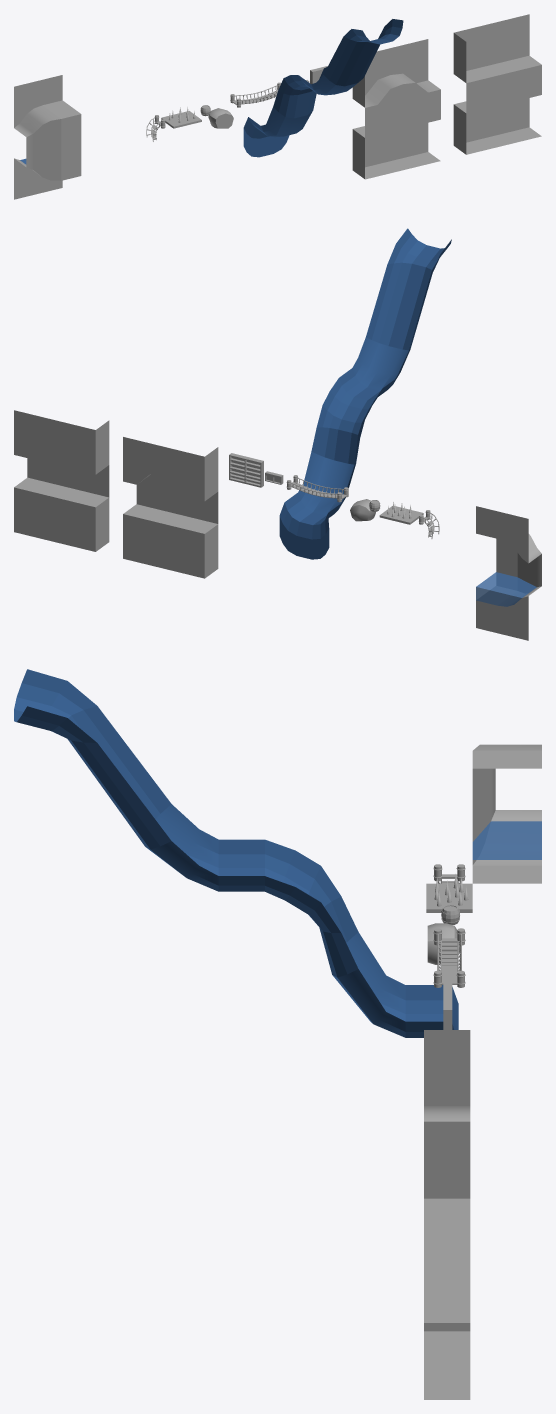
The model's file is Asset Pack.fbx.
3 views of the same model, one above another, from view 1: azimuth 30°, elevation 25°; view 2: azimuth 150°, elevation 25°; view 3: azimuth 270°, elevation 25° (orthographic). The views are drawn at different scales.
Visible parts, largest first — view 1: Bloco_Meio, Bloco_Final, Bloco_Inicial, Agua, Espeto, Ponte, Pedra, Ponte_Quebrada; view 2: Agua, Bloco_Meio, Bloco_Final, Bloco_Inicial, Estante, Ponte, Espeto; view 3: Agua, Bloco_Meio, Bloco_Inicial, Bloco_Final, Ponte, Espeto.
Part boxes in pixels (left/top/right/bottom): Bloco_Meio: left=453, top=14, right=541, bottom=154; Bloco_Final: left=352, top=39, right=440, bottom=179; Bloco_Inicial: left=14, top=75, right=81, bottom=199; Agua: left=243, top=19, right=403, bottom=157; Espeto: left=161, top=107, right=201, bottom=128; Ponte: left=230, top=82, right=281, bottom=107; Pedra: left=208, top=108, right=233, bottom=128; Ponte_Quebrada: left=146, top=115, right=165, bottom=141; Agua: left=279, top=228, right=451, bottom=559; Bloco_Meio: left=14, top=410, right=109, bottom=551; Bloco_Final: left=123, top=437, right=218, bottom=578; Bloco_Inicial: left=476, top=506, right=541, bottom=640; Estante: left=229, top=453, right=263, bottom=487; Ponte: left=286, top=475, right=348, bottom=502; Espeto: left=379, top=502, right=423, bottom=524; Agua: left=14, top=669, right=458, bottom=1037; Bloco_Meio: left=424, top=1121, right=470, bottom=1399; Bloco_Inicial: left=472, top=744, right=541, bottom=883; Bloco_Final: left=424, top=1030, right=470, bottom=1121; Ponte: left=433, top=928, right=465, bottom=987; Espeto: left=426, top=874, right=472, bottom=912.
Size of the model in its own units: 1378 by 675 by 685.
